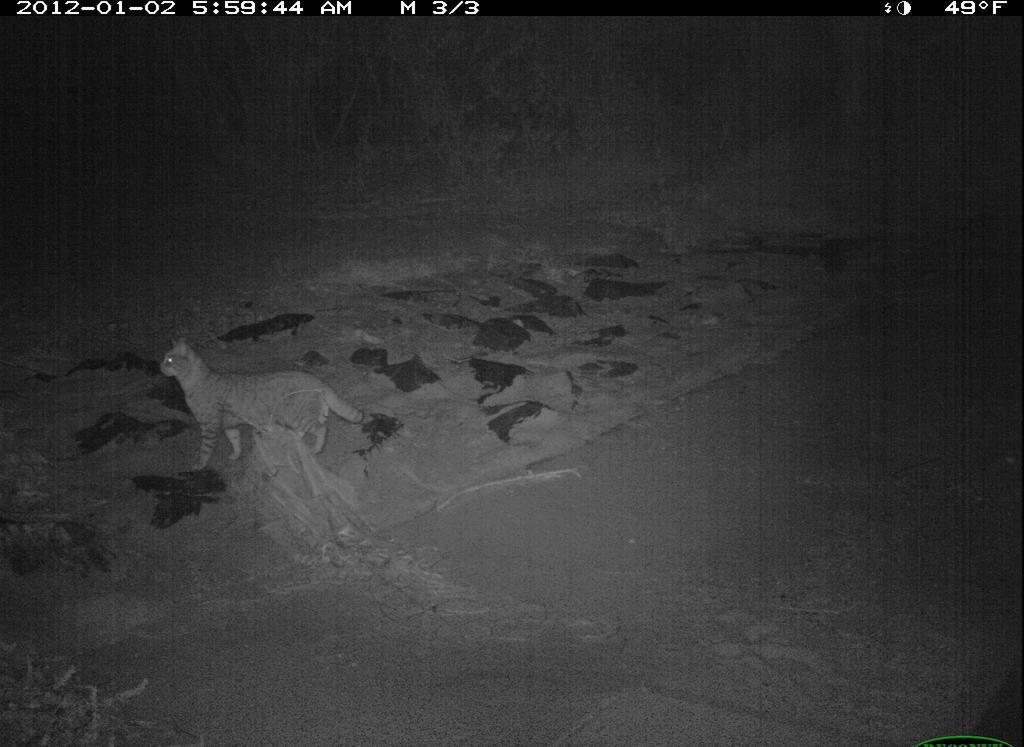cat: (141, 331, 387, 489)
